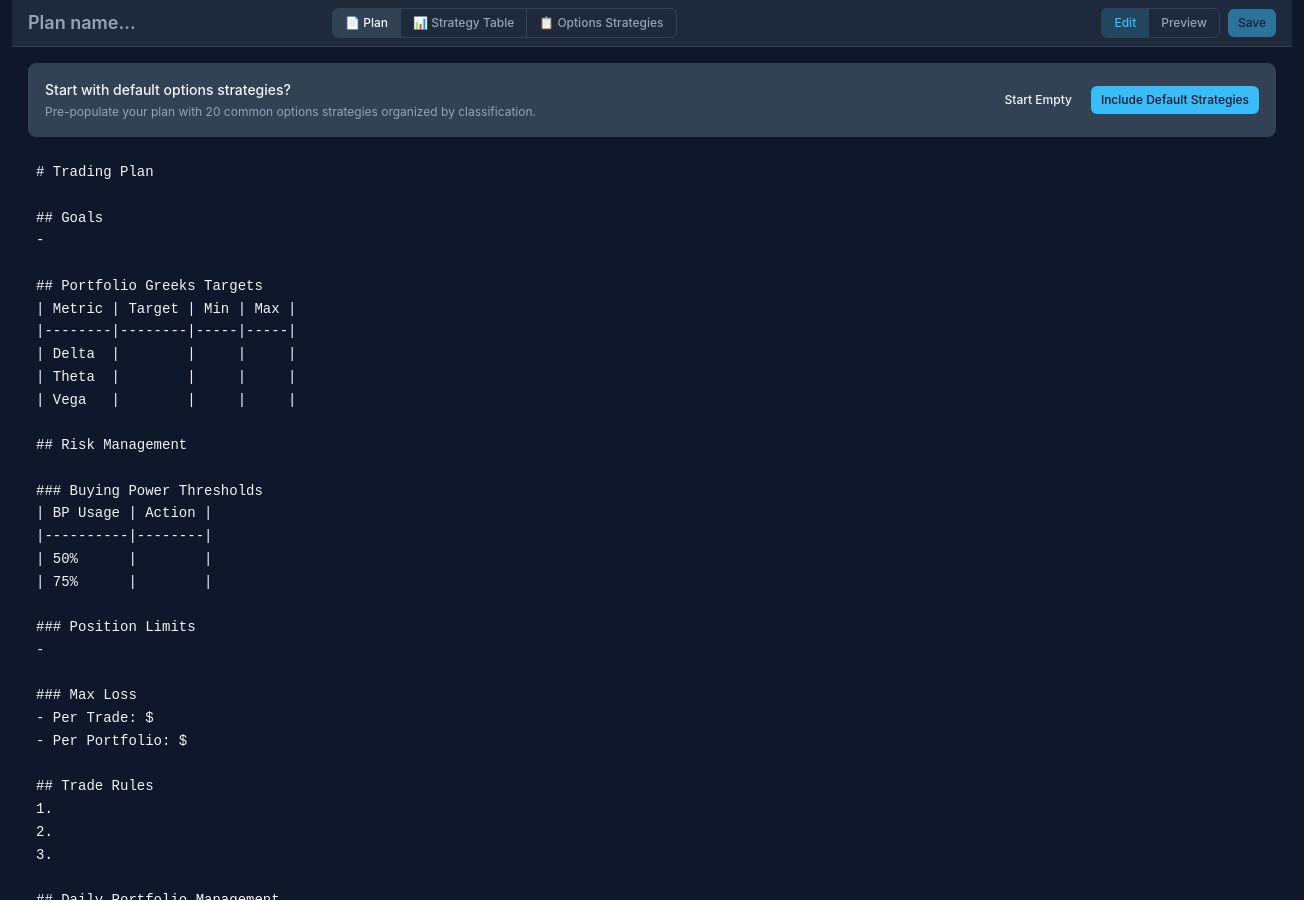
Test: PlanEditor — Default Strategies Prompt › "Include Default Strategies" populates core and speculative arrays and dismisses prompt
Click the button "Include Default Strategies".
click(1175, 100)  # box [1091,86,1259,114]
(page scrolled)
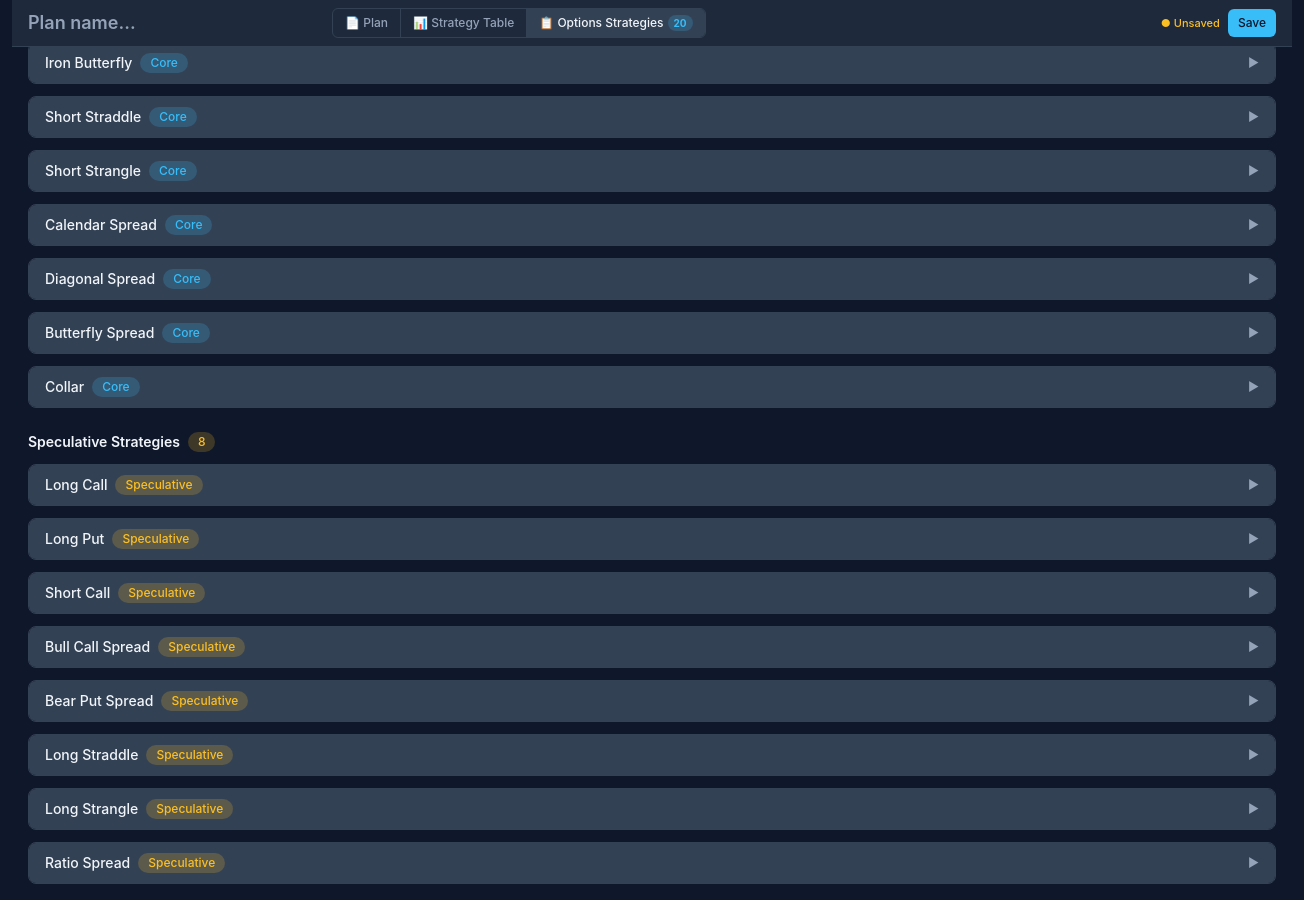
Expected: the text "Start with default options strategies?" is gone
Expected: the 1st text "Speculative" is shown, [116,475,202,495]
